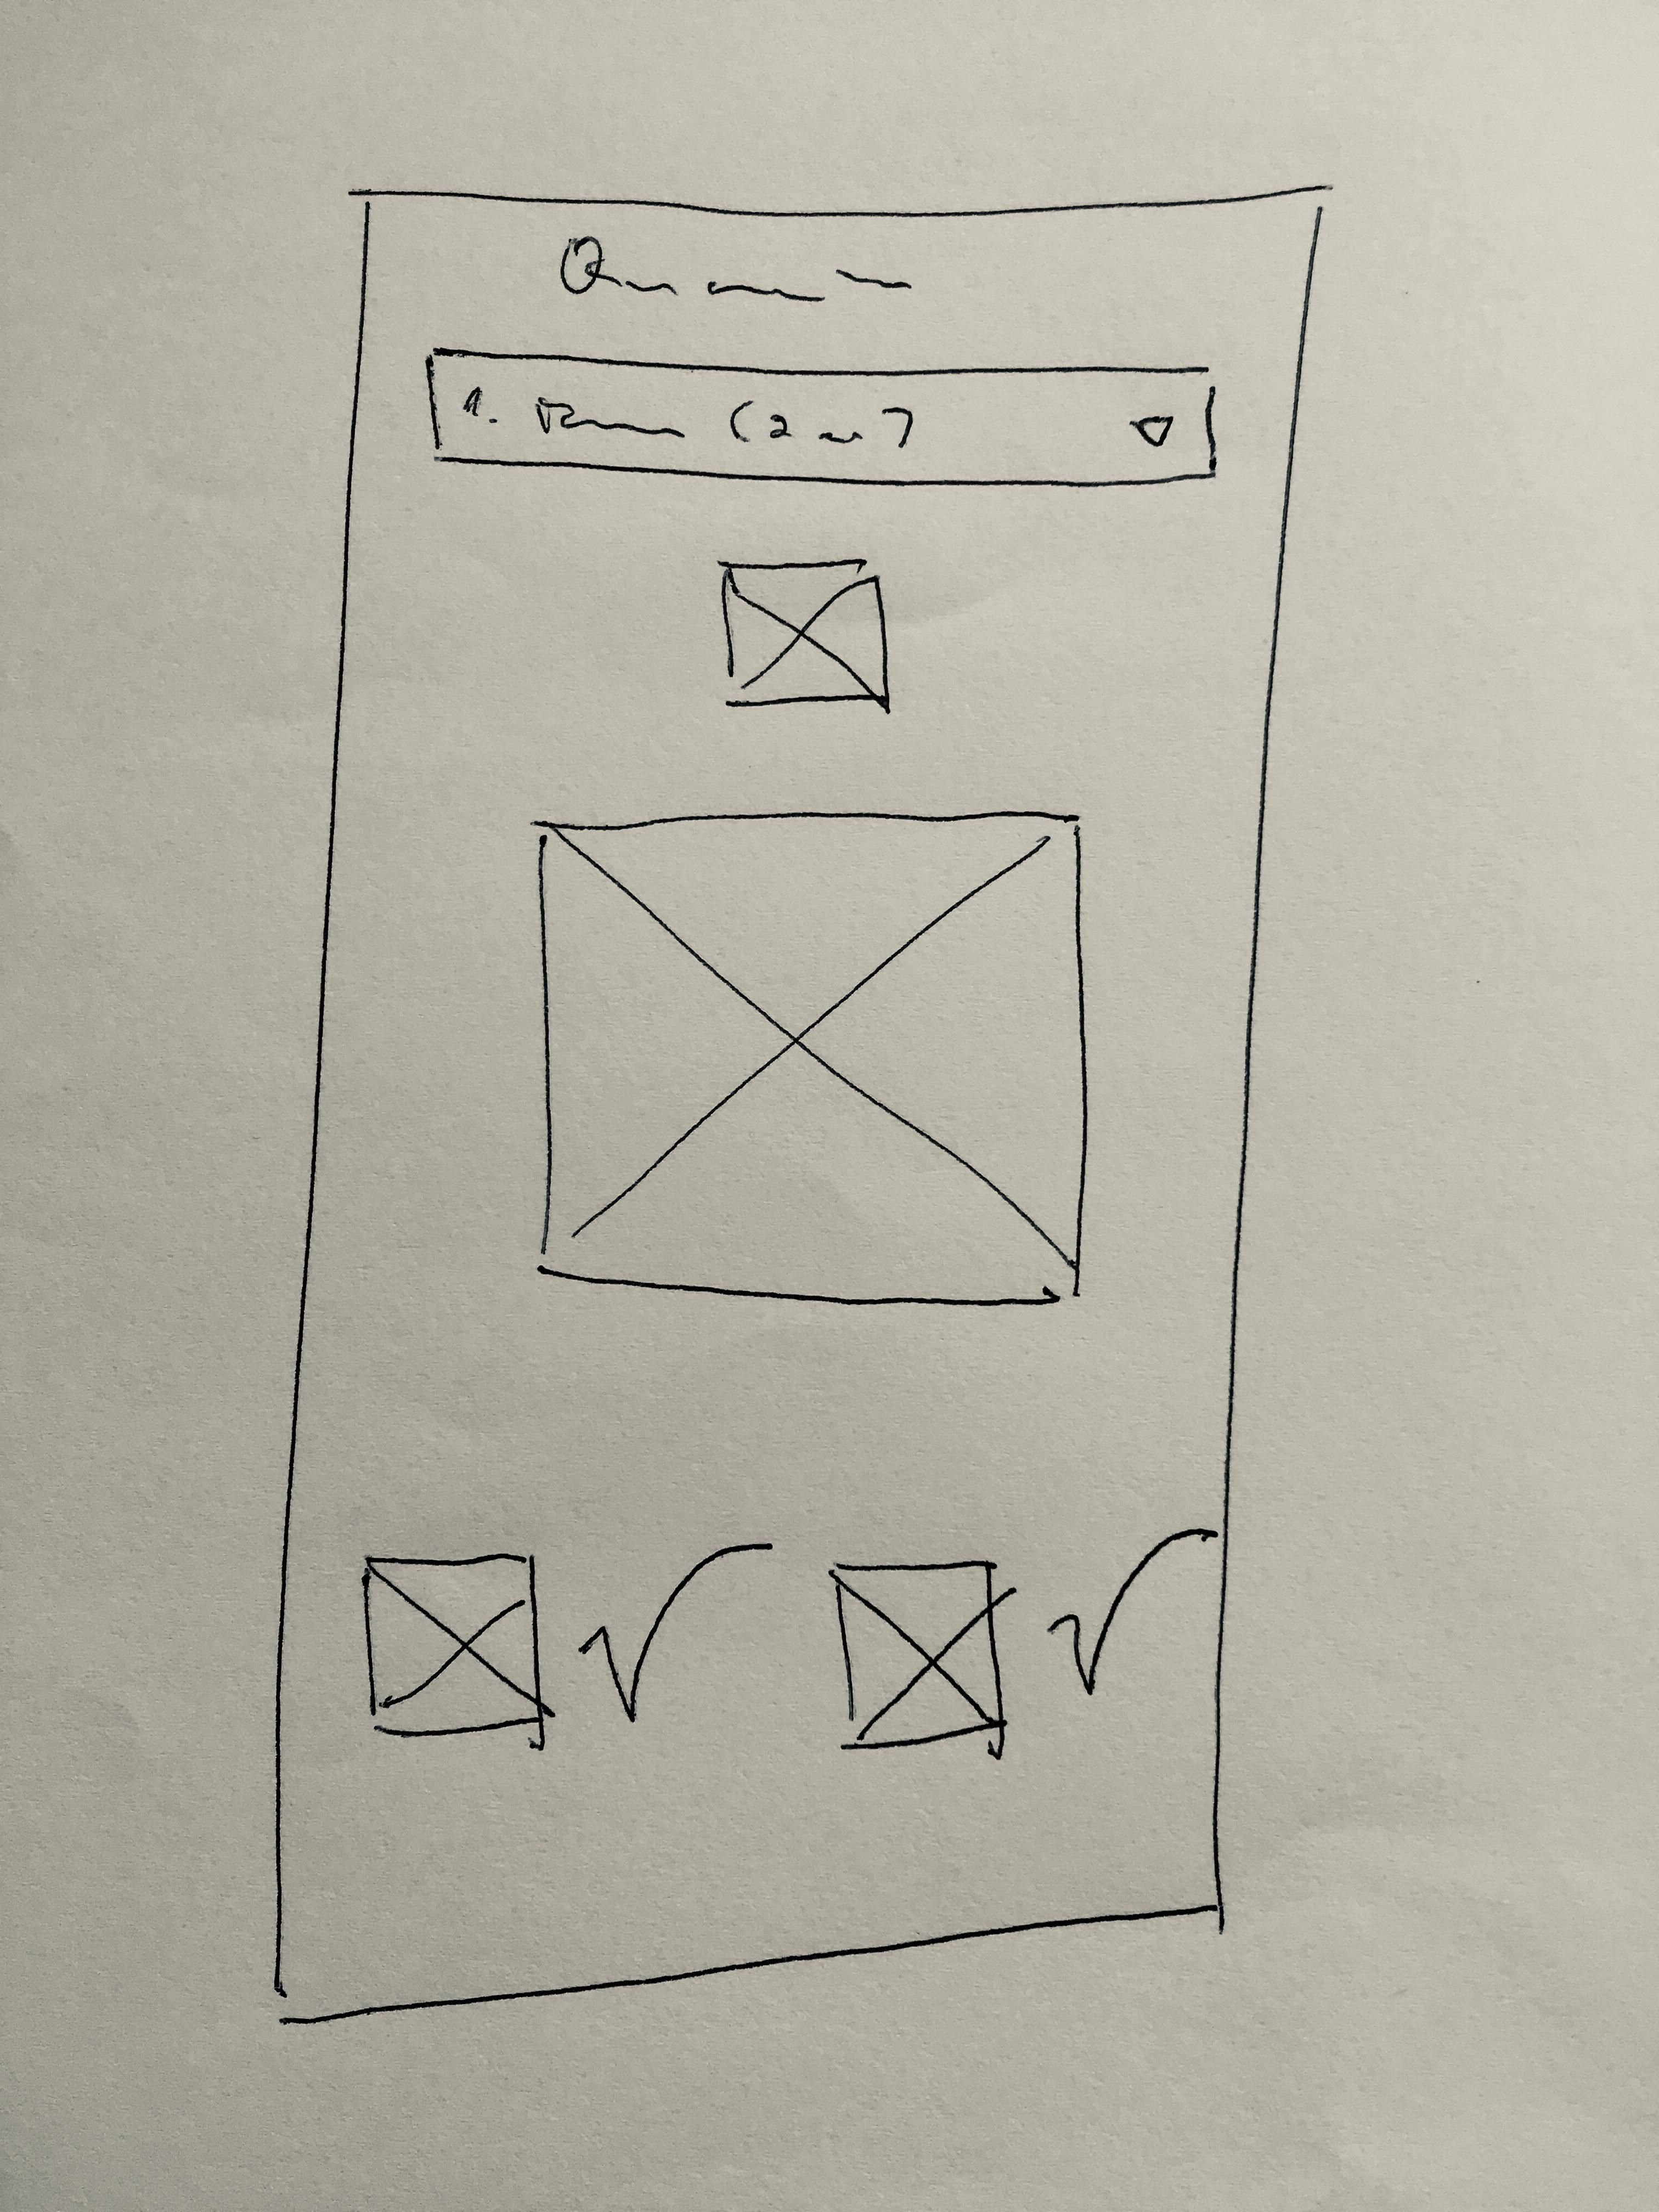Image: (533, 808, 1084, 1303), (359, 1552, 545, 1737), (833, 1557, 1006, 1749), (720, 559, 890, 711)
Label: (577, 1543, 777, 1728), (1046, 1526, 1218, 1700), (556, 232, 913, 310)
ListPicker: (420, 345, 1220, 489)
Screen: (270, 185, 1333, 2026)
